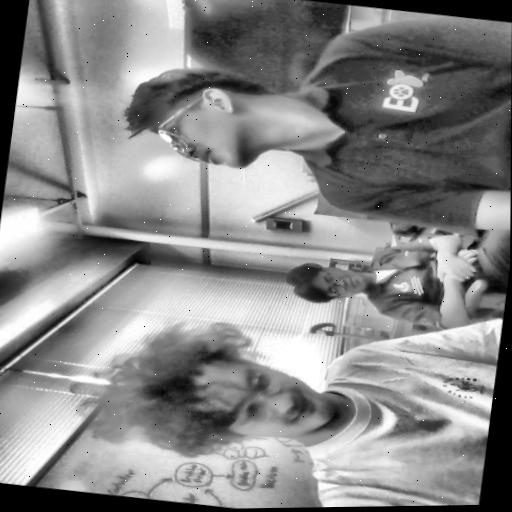Daifuku: (77, 301, 346, 475)
Not Daifuku: (115, 65, 290, 175), (285, 248, 373, 311)
